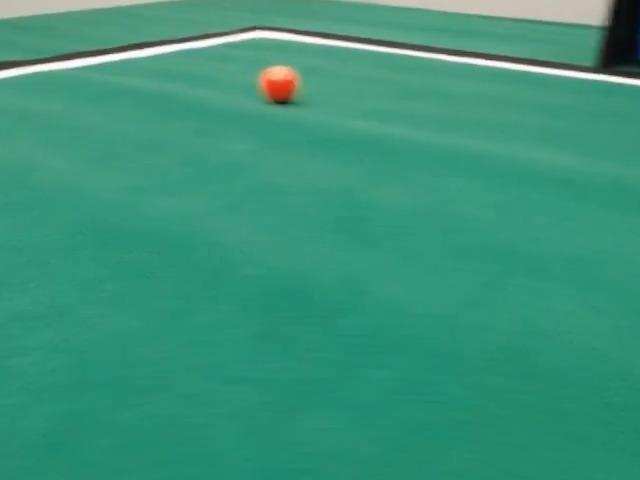Ball: (259, 65, 300, 103)
Blue Goal: (637, 29, 639, 58)
